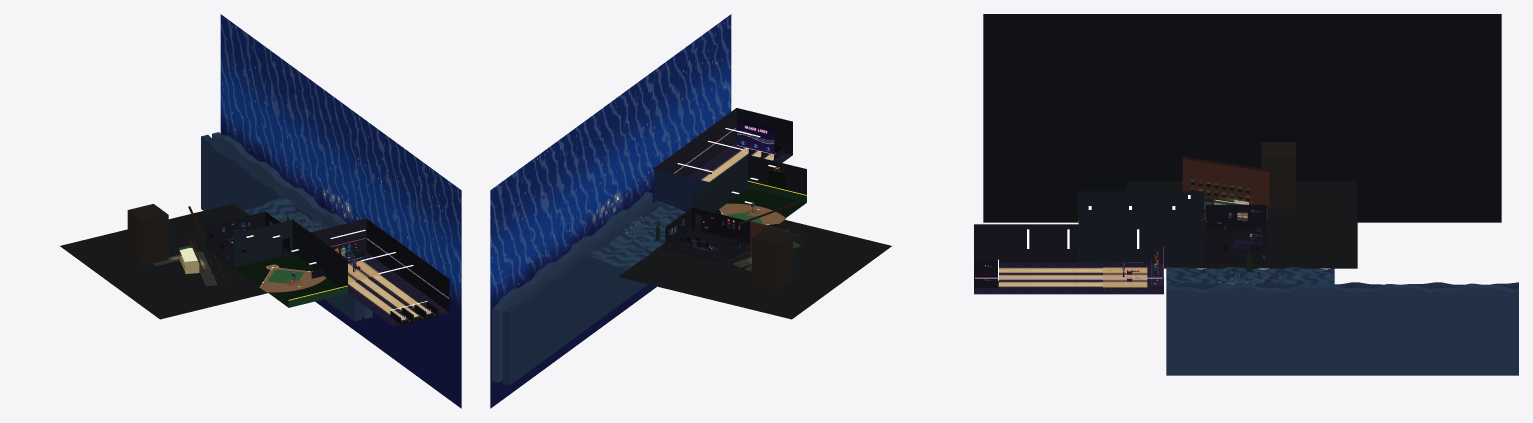
The model's file is walker-os-room.glb.
3 views of the same model, side by side, from view 1: azimuth 30°, elevation 25°; view 2: azimuth 150°, elevation 25°; view 3: azimuth 270°, elevation 25° (orthographic). The views are drawn at different scales.
Parts seen in each view (by area): view 1: Outside_StarryNight_Plane, Outside_Nighthawks, Outside_StarryNight, BowlingWing_Plane_7, Outside_StarryNight_Extrude, Ballpark_Plane_5, Ballpark_Plane, Ballpark_Turf, BowlingWing_Plane_5, Ballpark_Infield, Wall_Back, BowlingWing_Plane_3 (+2 smaller); view 2: Outside_StarryNight_Plane, Outside_Nighthawks, Outside_StarryNight, Outside_StarryNight_Extrude, BowlingWing_Plane_7, Ballpark_Plane_5, Bowling_OuterWall, Floor, Ballpark_Fence, Ballpark_Turf, BowlingWing_Plane_6, Bowling_Masking (+5 smaller); view 3: Outside_Nighthawks_Plane, Outside_StarryNight_Extrude, Outside_Nighthawks, Ballpark_Plane_5, Ballpark_Plane_4, BowlingWing_Plane_8, Outside_StarryNight, Floor, Wall_Left, BowlingWing_Plane, BowlingWing_Plane_3, BowlingWing_Plane_13 (+3 smaller).
Boxes of the visible parts, <box> form: Outside_StarryNight_Plane: <box>220,14,461,408</box>; Outside_Nighthawks: <box>60,203,267,319</box>; Outside_StarryNight: <box>201,134,361,321</box>; BowlingWing_Plane_7: <box>366,219,449,312</box>; Outside_StarryNight_Extrude: <box>212,132,372,318</box>; Ballpark_Plane_5: <box>292,220,347,287</box>; Ballpark_Plane: <box>233,222,282,267</box>; Ballpark_Turf: <box>234,253,339,307</box>; BowlingWing_Plane_5: <box>310,218,366,256</box>; Ballpark_Infield: <box>259,264,326,292</box>; Wall_Back: <box>206,211,265,246</box>; BowlingWing_Plane_3: <box>382,271,449,315</box>; Outside_StarryNight_Plane: <box>490,14,731,408</box>; Outside_Nighthawks: <box>618,201,891,319</box>; Outside_StarryNight: <box>502,201,685,385</box>; Outside_StarryNight_Extrude: <box>492,192,652,382</box>; BowlingWing_Plane_7: <box>654,108,736,176</box>; Ballpark_Plane_5: <box>692,155,747,225</box>; Bowling_OuterWall: <box>653,168,709,210</box>; Floor: <box>666,229,749,262</box>; Ballpark_Fence: <box>748,155,806,194</box>; Ballpark_Turf: <box>696,188,805,230</box>; BowlingWing_Plane_6: <box>736,108,792,154</box>; Bowling_Masking: <box>737,118,774,154</box>; Outside_Nighthawks_Plane: <box>983,14,1501,222</box>; Outside_StarryNight_Extrude: <box>1166,283,1518,375</box>; Outside_Nighthawks: <box>1127,142,1357,268</box>; Ballpark_Plane_5: <box>1077,224,1204,262</box>; Ballpark_Plane_4: <box>1077,191,1204,224</box>; BowlingWing_Plane_8: <box>974,224,1077,262</box>; Outside_StarryNight: <box>1166,267,1518,288</box>; Floor: <box>1205,229,1266,261</box>; Wall_Left: <box>1205,204,1266,228</box>; BowlingWing_Plane: <box>1103,262,1163,294</box>; BowlingWing_Plane_3: <box>974,288,1102,294</box>; BowlingWing_Plane_13: <box>998,282,1102,286</box>.
Size of what is drawn, in the model's own units: 53.2 by 52.75 by 96.
353 materials, 56 textured.
